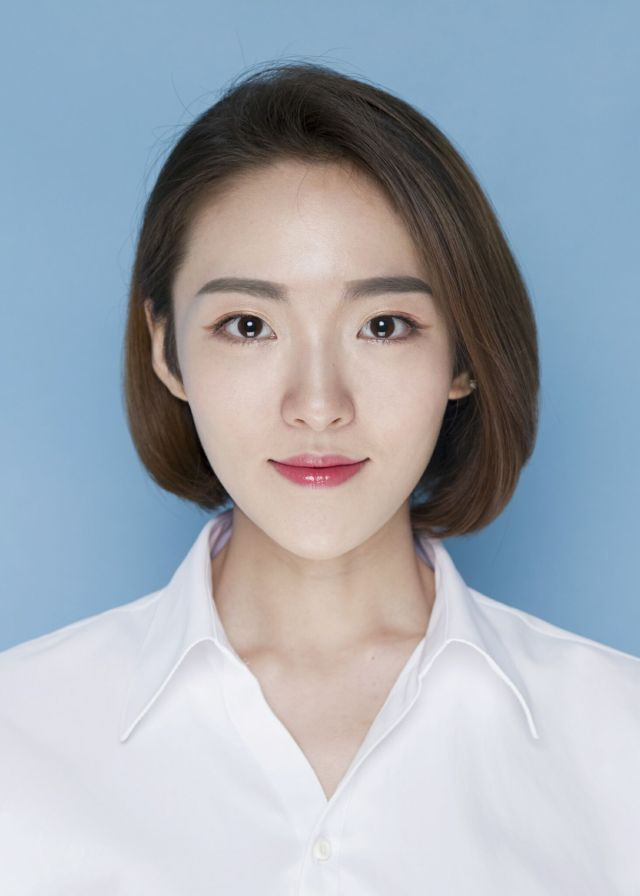unmask: (167, 243, 471, 544)
